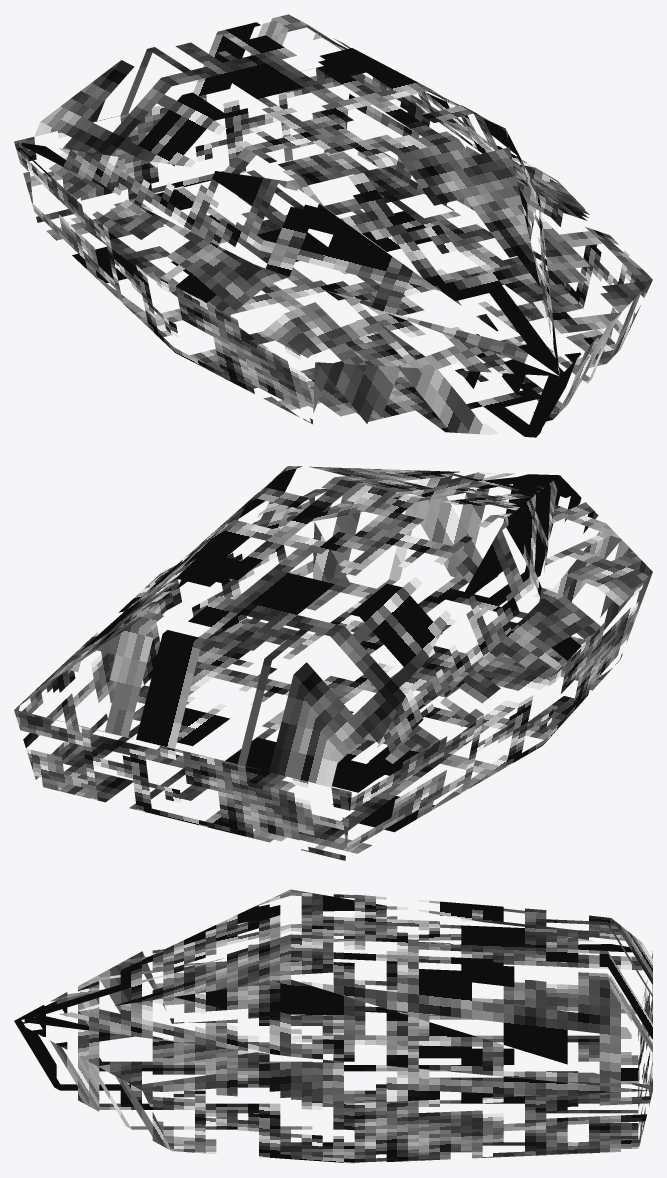
The model's file is monsoon_wreck.glb.
3 renders of one model, top to bottom at view 1: azimuth 30°, elevation 25°; view 2: azimuth 150°, elevation 25°; view 3: azimuth 270°, elevation 25°, orthographic. The views are drawn at different scales.
Visible parts, largest first — view 1: MonsoonL1; view 2: MonsoonL1; view 3: MonsoonL1.
Part boxes in pixels (<box>): MonsoonL1: <box>14,14,652,437</box>; MonsoonL1: <box>14,466,652,860</box>; MonsoonL1: <box>14,889,652,1163</box>.
Size of the model in its own units: 3.66 by 1.59 by 6.
Materials: 1 (1 with a texture image).
